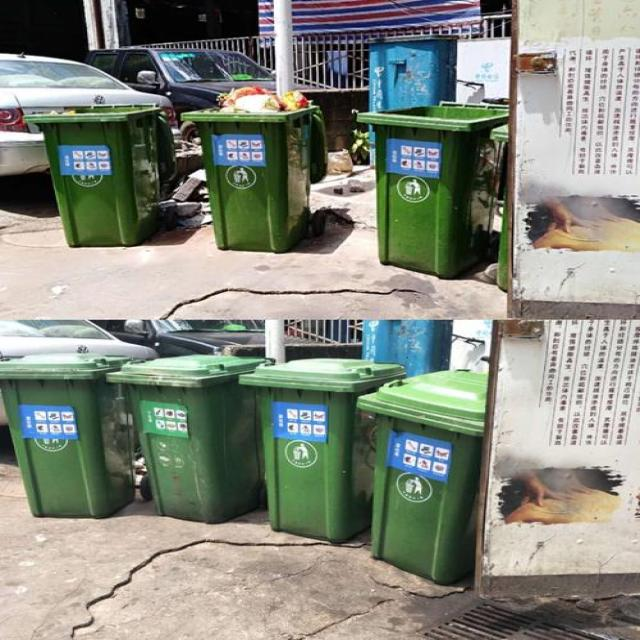garbage_bin: (237, 357, 406, 541), (105, 352, 273, 522), (356, 369, 486, 583), (356, 99, 507, 276), (0, 352, 143, 517), (23, 101, 174, 246)
overflow: (180, 84, 326, 250)
